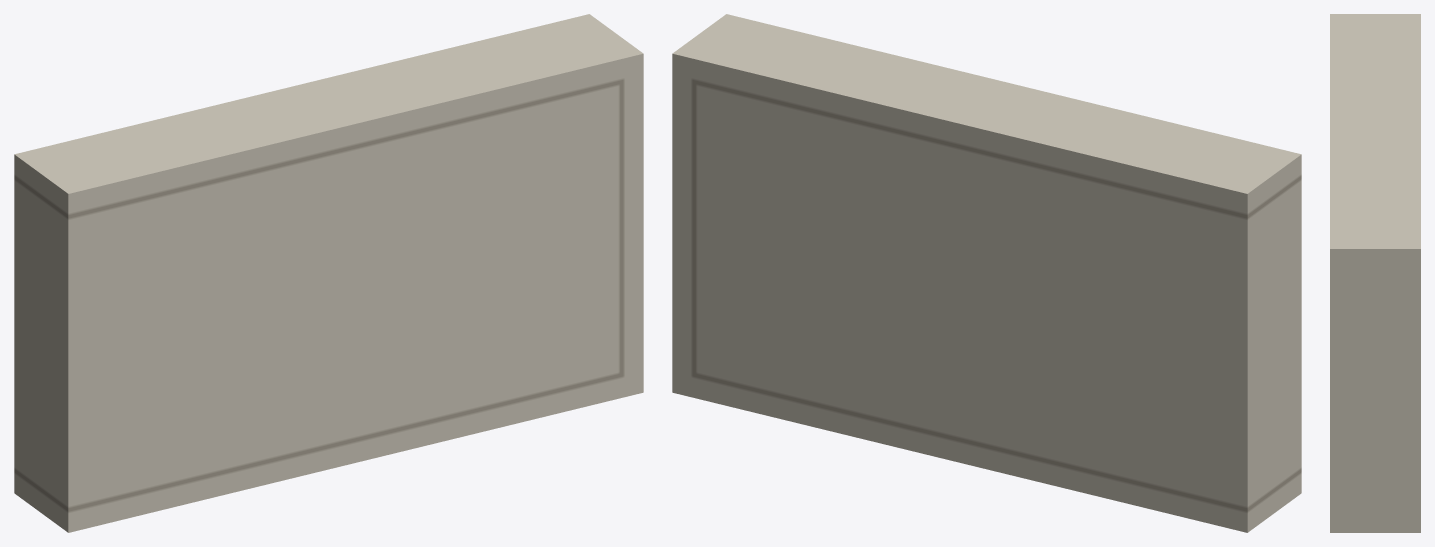
File: super_famicom_box.glb
3 renders of one model, left to right at view 1: azimuth 30°, elevation 25°; view 2: azimuth 150°, elevation 25°; view 3: azimuth 270°, elevation 25°, orthographic. The views are drawn at different scales.
Parts seen in each view (by area): view 1: super_famicom_box; view 2: super_famicom_box; view 3: super_famicom_box.
Part boxes in pixels (x1,y1,x2,y2): super_famicom_box: (14,14,643,532); super_famicom_box: (672,14,1301,532); super_famicom_box: (1330,14,1420,532).
Bounding box in the file's own units: 0.19 × 0.107 × 0.031.
1 material, 1 textured.
